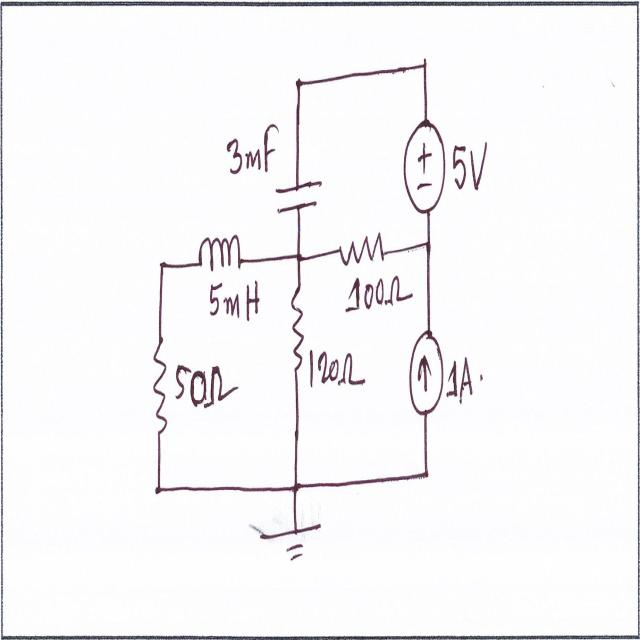capacitor: (272, 172, 326, 222)
current_source: (404, 314, 448, 433)
ground: (254, 514, 326, 572)
inductor: (194, 233, 248, 280)
resistor: (335, 223, 390, 270), (150, 337, 170, 457), (286, 280, 308, 378)
voltage_source: (399, 110, 453, 226)
